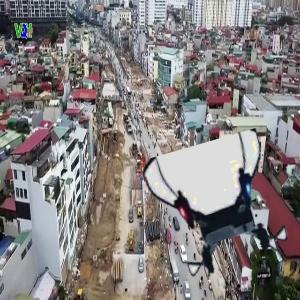drone: (154, 142, 288, 276)
